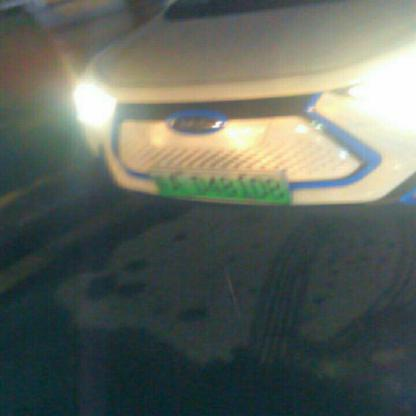lp: (150, 171, 290, 202)
